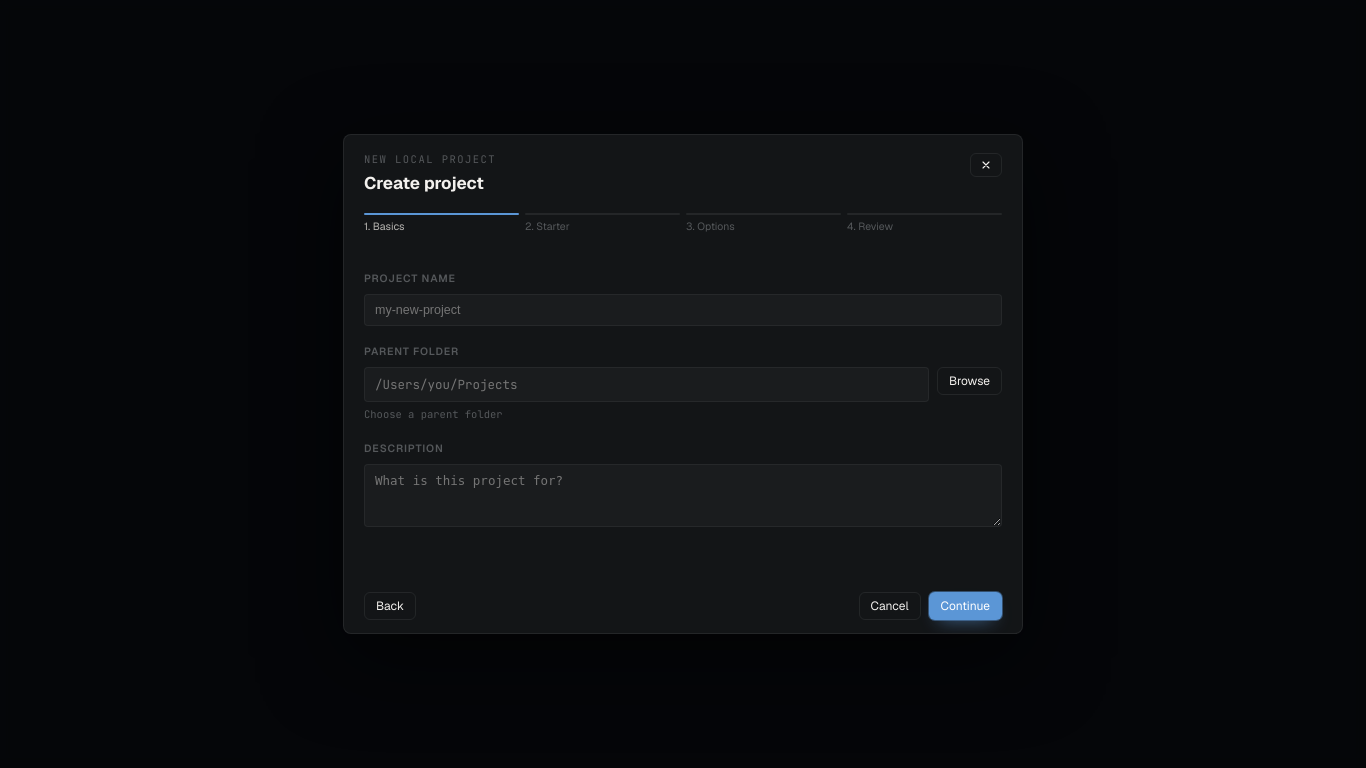
Test case: CreateProjectDialog › requires a name and parent folder before leaving Basics
Click the button "Continue". click: (965, 606)
box: [929,592,1002,620]
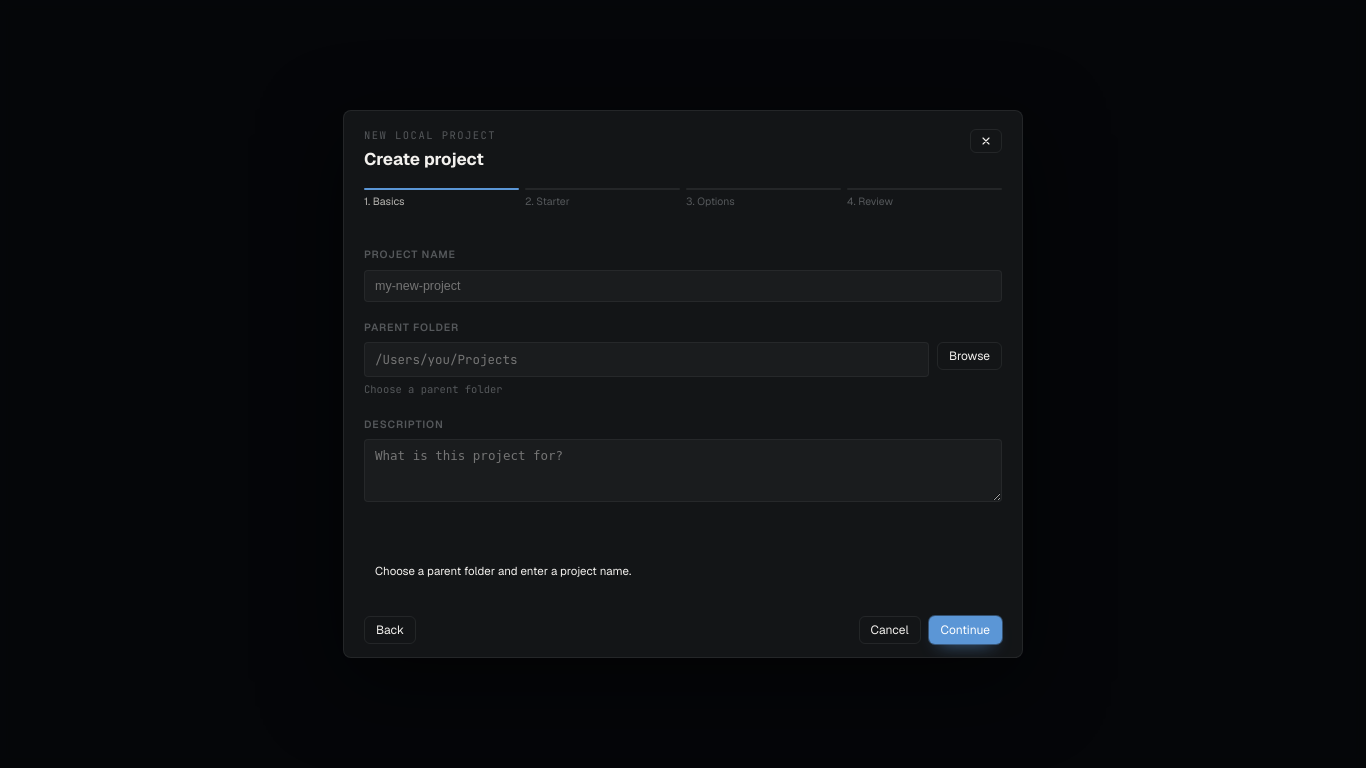
Expected: the text "1. Basics" is shown, [364,196,404,210]
Expected: the text "Choose a parent folder and enter a project name." is shown, [375,564,631,579]
